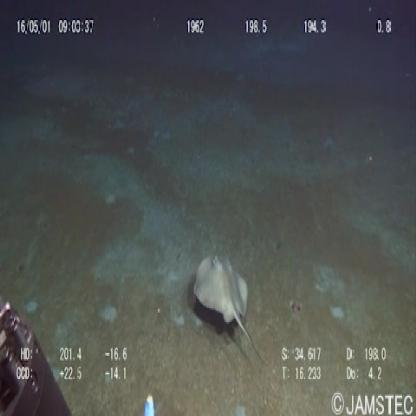Bio: (190, 251, 262, 362)
Rov: (1, 294, 74, 416)
